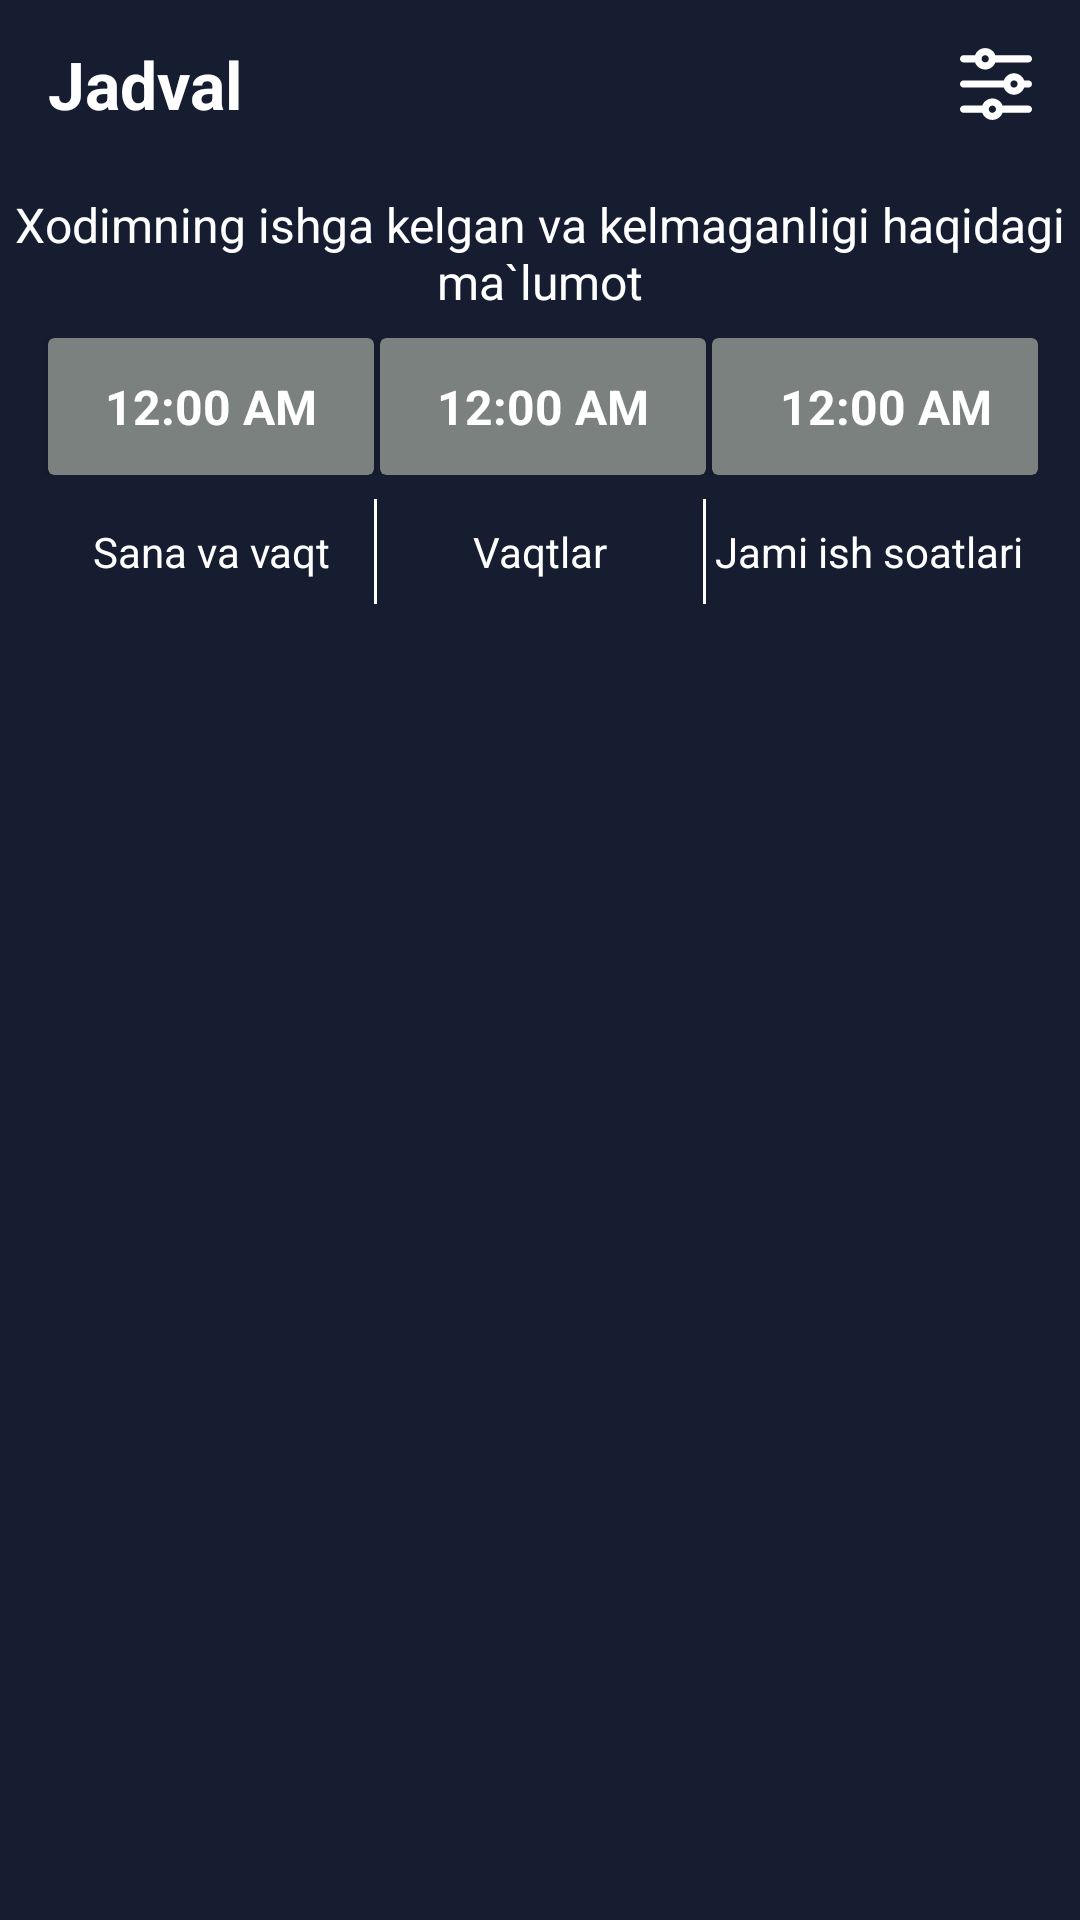

Where to tap for icons on this 1080w x 1920h app screen, as (x,y):
filter: (996,84)
